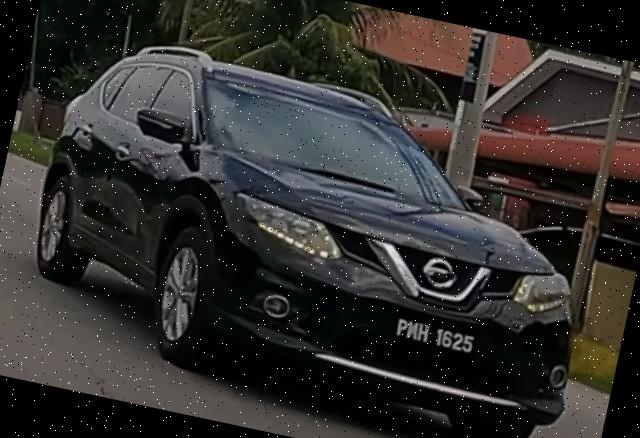License_Plate: (391, 319, 480, 359)
car: (8, 22, 623, 438)
